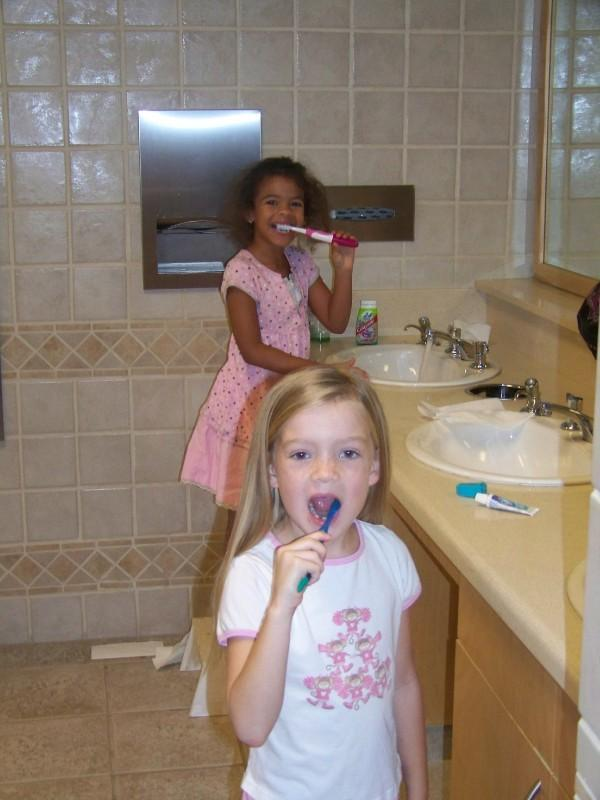person: (217, 350, 430, 800)
